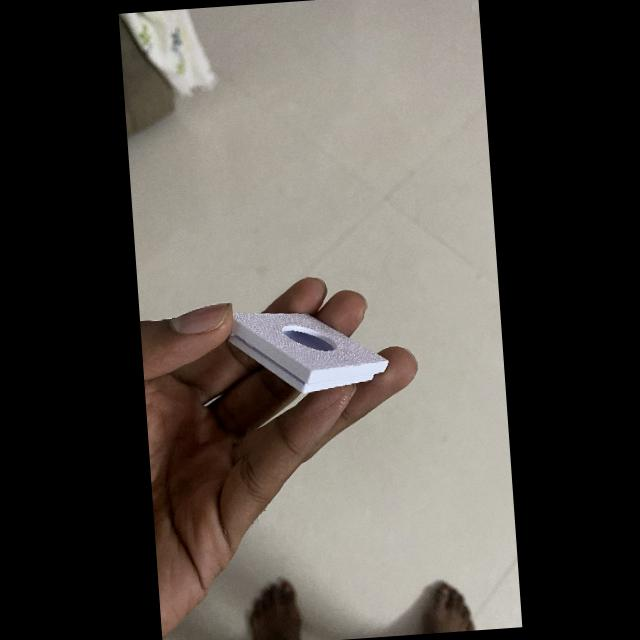RASPBERY PI CAM ENCLOSURE: (229, 313, 388, 393)
